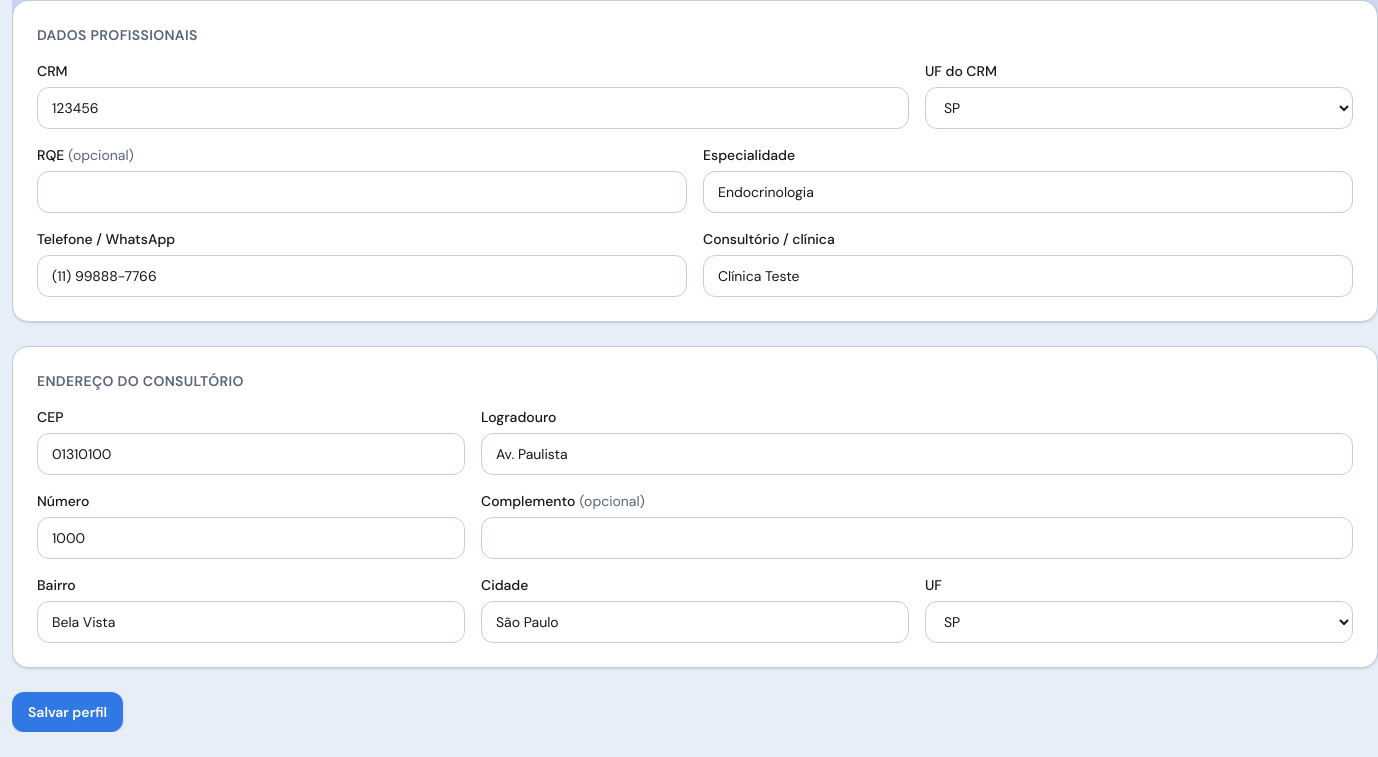
Test case: DoctorProfileForm › shows Informe o CRM when CRM is empty
Clear the field labelled "CRM" at (473, 108), box x1=37 y1=87 x2=909 y2=129
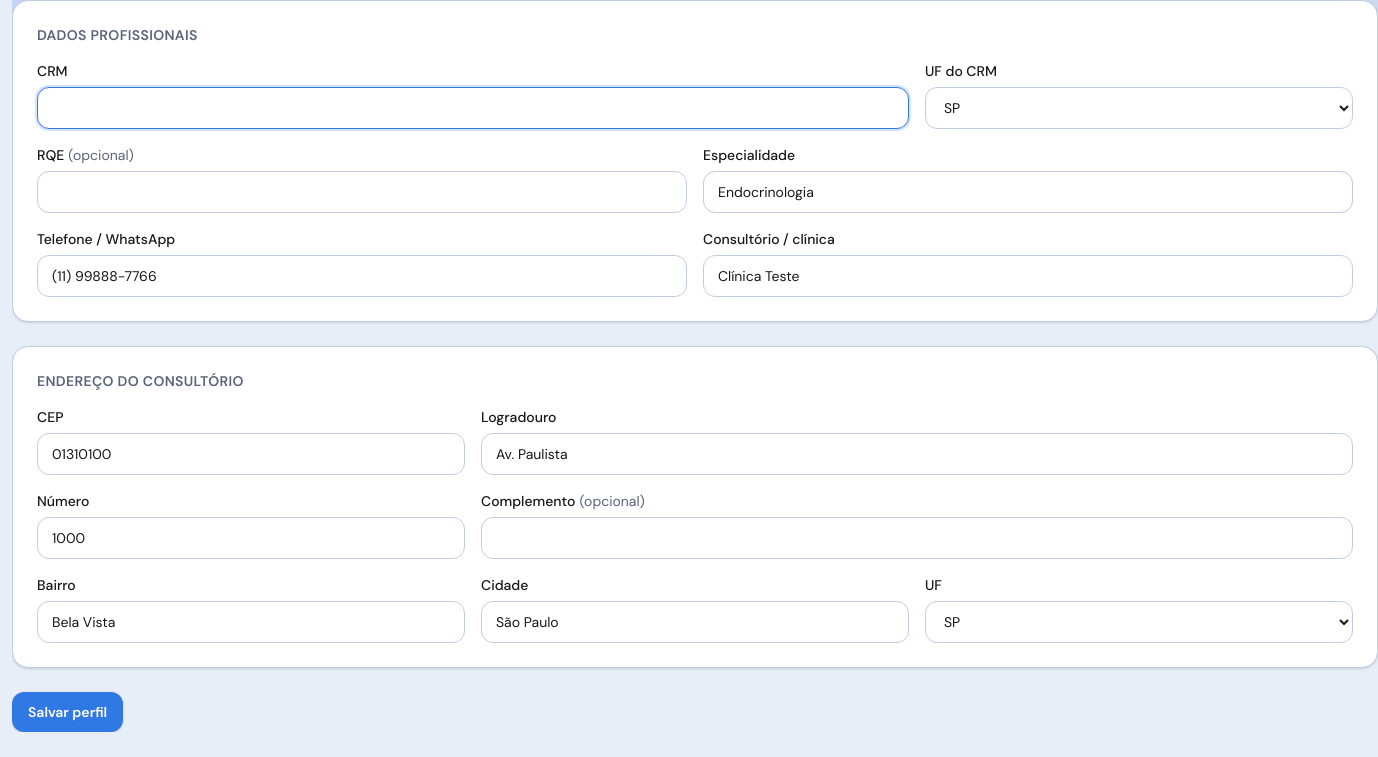
Click the button "Salvar perfil" at (68, 712), box x1=12 y1=692 x2=123 y2=732
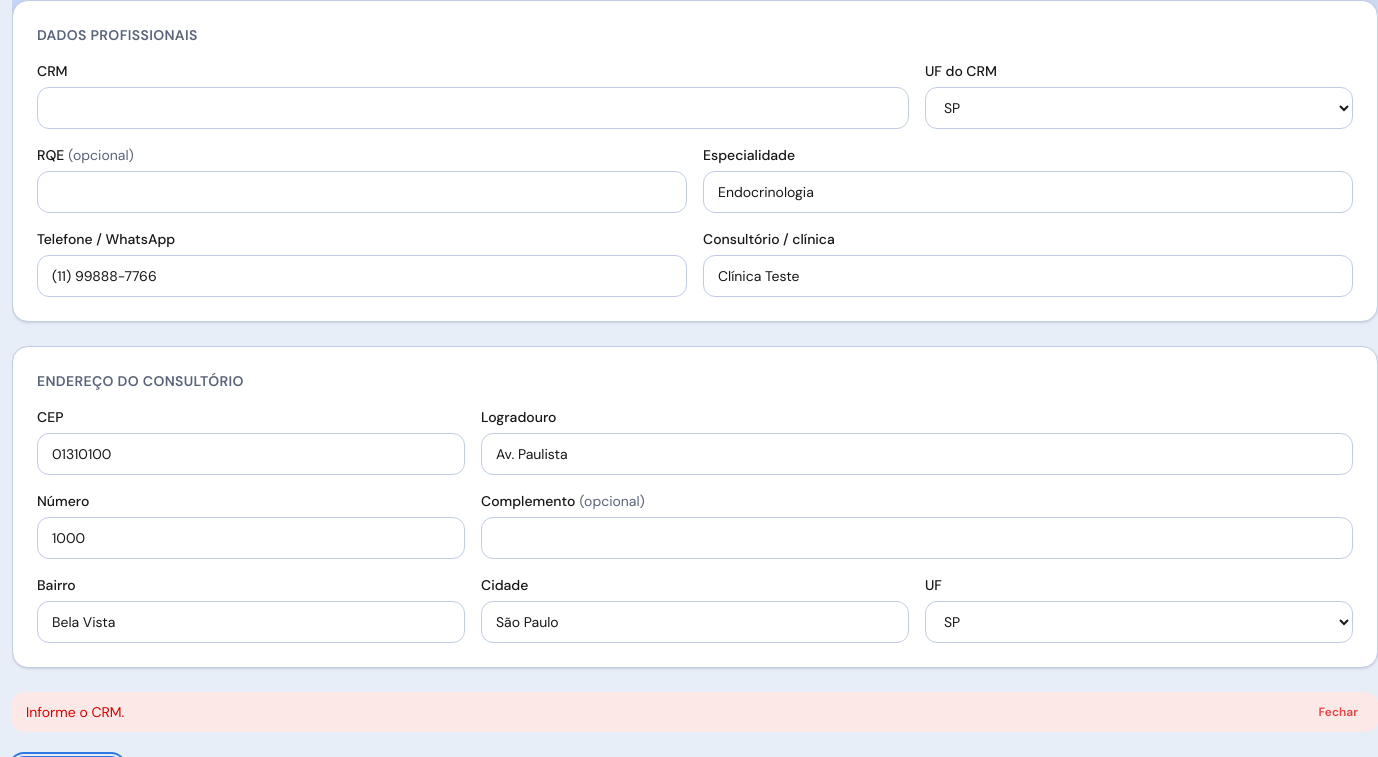
Check: the message shows "Informe o CRM.", box x1=26 y1=703 x2=124 y2=721
